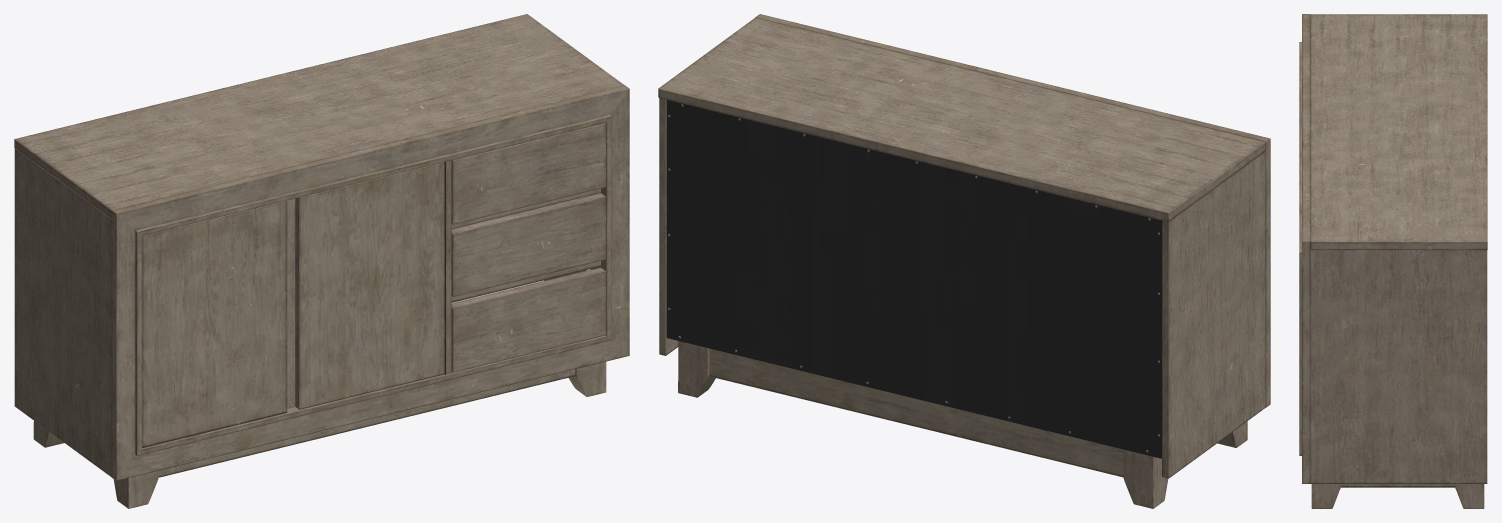
The model's file is abo-B07B78RCT5.glb.
3 views of the same model, side by side, from view 1: azimuth 30°, elevation 25°; view 2: azimuth 150°, elevation 25°; view 3: azimuth 270°, elevation 25° (orthographic). The views are drawn at different scales.
Size of the model in its own units: 1.46 by 0.825 by 0.511.
1 material, 1 textured.
